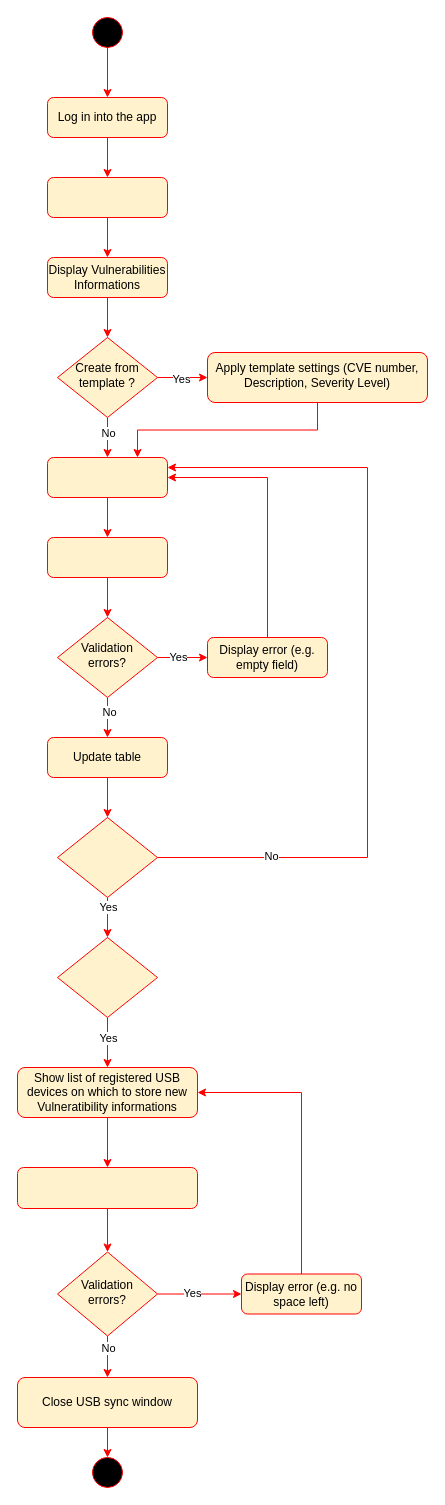
Some shapes in this 445 by 1505 pixel diagram are drawn without their labels. Each missing label, with the centre of its shape:
Close editor?: the point at 107,857
Edit Vulnerabilities Informations: the point at 107,477
List firmwares of UGVs: the point at 107,197
Save changes: the point at 107,557
Select one USB device in the list: the point at 107,1187
Sync to USB device?: the point at 107,977
